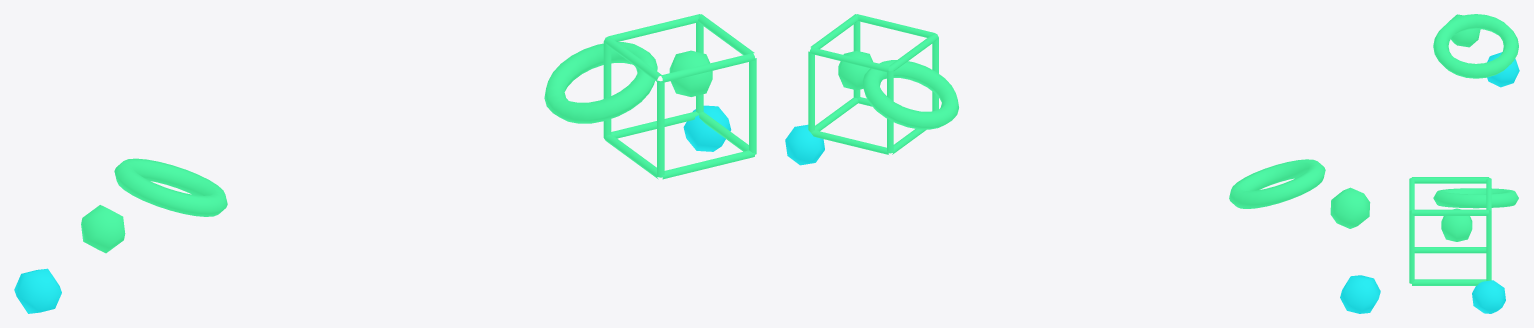
The model's file is avatar-verdejante-kit-criador.glb.
The picture shows the model from 3 angles, left to right: view 1: azimuth 30°, elevation 25°; view 2: azimuth 150°, elevation 25°; view 3: azimuth 270°, elevation 25°; orthographic projection. The views are drawn at different scales.
Parts seen in each view (by area): view 1: kit_verdejante_criador_growthCuffL, kit_verdejante_criador_growthCuffR, kit_verdejante_criador_pod3, kit_verdejante_criador_pod2, kit_verdejante_criador_pod0, kit_verdejante_criador_pod1, kit_verdejante_criador_lattice00, kit_verdejante_criador_lattice02, kit_verdejante_criador_lattice08, kit_verdejante_criador_lattice01, kit_verdejante_criador_lattice09, kit_verdejante_criador_lattice03 (+5 smaller); view 2: kit_verdejante_criador_growthCuffL, kit_verdejante_criador_growthCuffR, kit_verdejante_criador_pod2, kit_verdejante_criador_pod3, kit_verdejante_criador_pod1, kit_verdejante_criador_pod0, kit_verdejante_criador_lattice01, kit_verdejante_criador_lattice03, kit_verdejante_criador_lattice00, kit_verdejante_criador_lattice11, kit_verdejante_criador_lattice04, kit_verdejante_criador_lattice10 (+1 smaller); view 3: kit_verdejante_criador_growthCuffR, kit_verdejante_criador_growthCuffL, kit_verdejante_criador_pod1, kit_verdejante_criador_pod0, kit_verdejante_criador_pod3, kit_verdejante_criador_lattice05, kit_verdejante_criador_lattice04, kit_verdejante_criador_lattice06, kit_verdejante_criador_lattice07, kit_verdejante_criador_pod2, kit_verdejante_criador_lattice09, kit_verdejante_criador_lattice11 (+2 smaller).
Boxes of the visible parts, x1,y1,x2,y2 form: kit_verdejante_criador_growthCuffL: (544,42,657,123); kit_verdejante_criador_growthCuffR: (114,158,227,216); kit_verdejante_criador_pod3: (14,268,61,313); kit_verdejante_criador_pod2: (81,205,125,253); kit_verdejante_criador_pod0: (669,50,712,96); kit_verdejante_criador_pod1: (683,105,731,151); kit_verdejante_criador_lattice00: (661,53,754,82); kit_verdejante_criador_lattice02: (662,150,754,179); kit_verdejante_criador_lattice08: (657,80,664,177); kit_verdejante_criador_lattice01: (607,14,699,41); kit_verdejante_criador_lattice09: (749,58,756,154); kit_verdejante_criador_lattice03: (611,111,698,138); kit_verdejante_criador_growthCuffL: (862,60,958,129); kit_verdejante_criador_growthCuffR: (1229,159,1325,208); kit_verdejante_criador_pod2: (1330,187,1370,228); kit_verdejante_criador_pod3: (1340,275,1380,313); kit_verdejante_criador_pod1: (785,124,824,165); kit_verdejante_criador_pod0: (838,50,872,90); kit_verdejante_criador_lattice01: (810,47,889,72); kit_verdejante_criador_lattice03: (810,130,888,154); kit_verdejante_criador_lattice00: (856,14,935,37); kit_verdejante_criador_lattice11: (808,51,814,132); kit_verdejante_criador_lattice04: (889,33,938,71); kit_verdejante_criador_lattice10: (887,70,893,153); kit_verdejante_criador_growthCuffR: (1433,14,1518,78); kit_verdejante_criador_growthCuffL: (1433,188,1518,208); kit_verdejante_criador_pod1: (1472,280,1505,313); kit_verdejante_criador_pod0: (1441,208,1472,241); kit_verdejante_criador_pod3: (1487,52,1519,87); kit_verdejante_criador_lattice05: (1412,209,1488,215); kit_verdejante_criador_lattice04: (1412,177,1488,183); kit_verdejante_criador_lattice06: (1414,247,1486,253); kit_verdejante_criador_lattice07: (1412,279,1486,285); kit_verdejante_criador_pod2: (1449,14,1480,47); kit_verdejante_criador_lattice09: (1409,213,1414,283); kit_verdejante_criador_lattice11: (1486,213,1491,280).
Bounding box in the file's own units: 0.9143 × 0.1793 × 0.1723.
